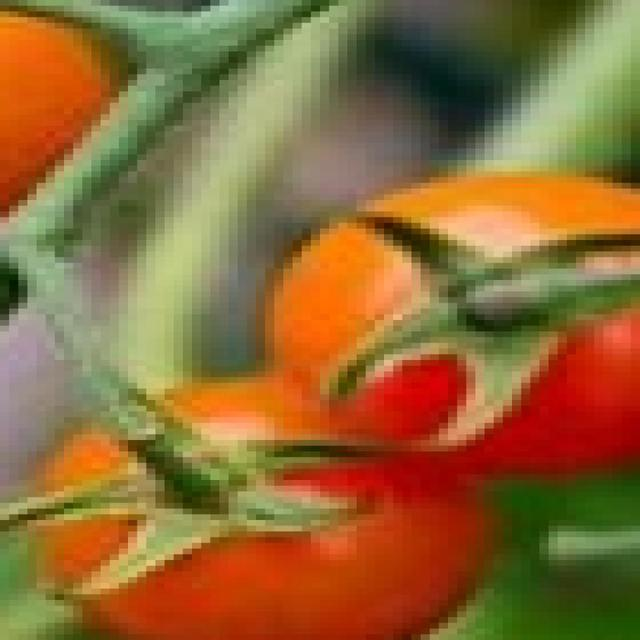Healthy Fruit: (180, 176, 305, 339)
